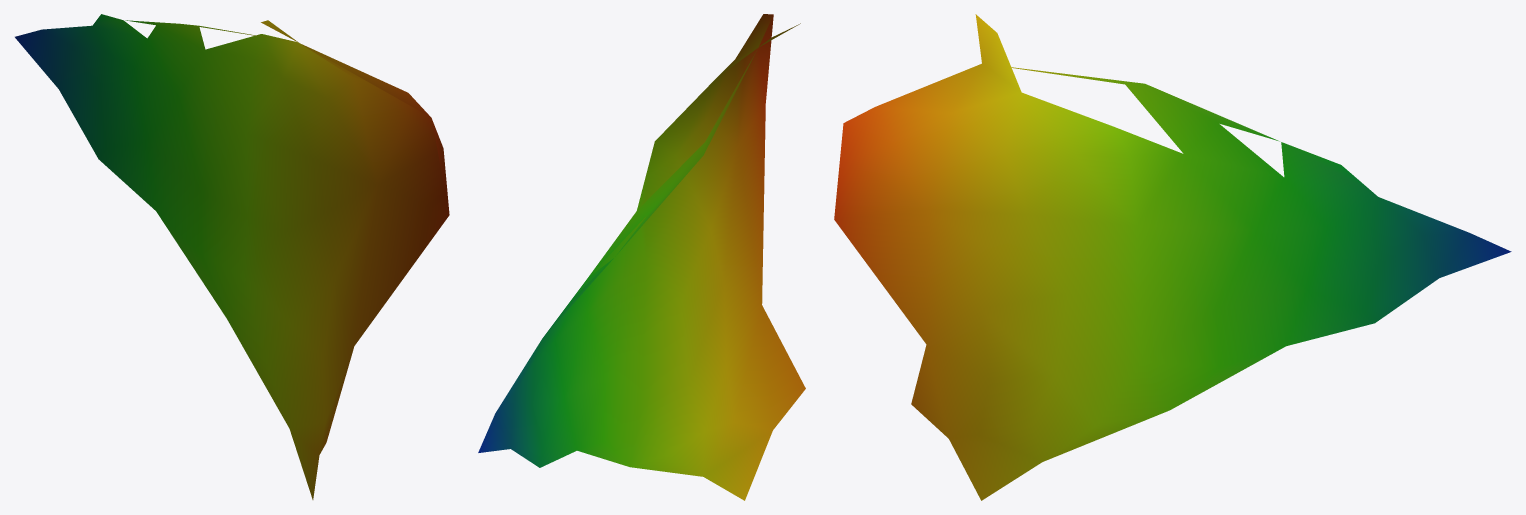
The picture shows the model from 3 angles, left to right: view 1: azimuth 30°, elevation 25°; view 2: azimuth 150°, elevation 25°; view 3: azimuth 270°, elevation 25°; orthographic projection. The views are drawn at different scales.
Bounding box in the file's own units: 0.0289 × 0.1198 × 0.1594.
